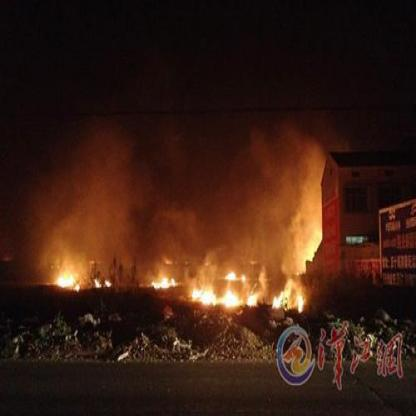fire: (152, 260, 311, 314), (45, 243, 114, 291)
